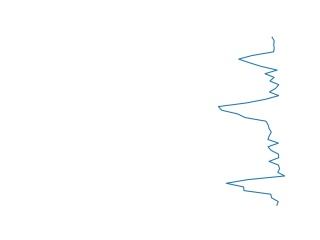underwaterNaturalLevee: (214, 35, 287, 207)
